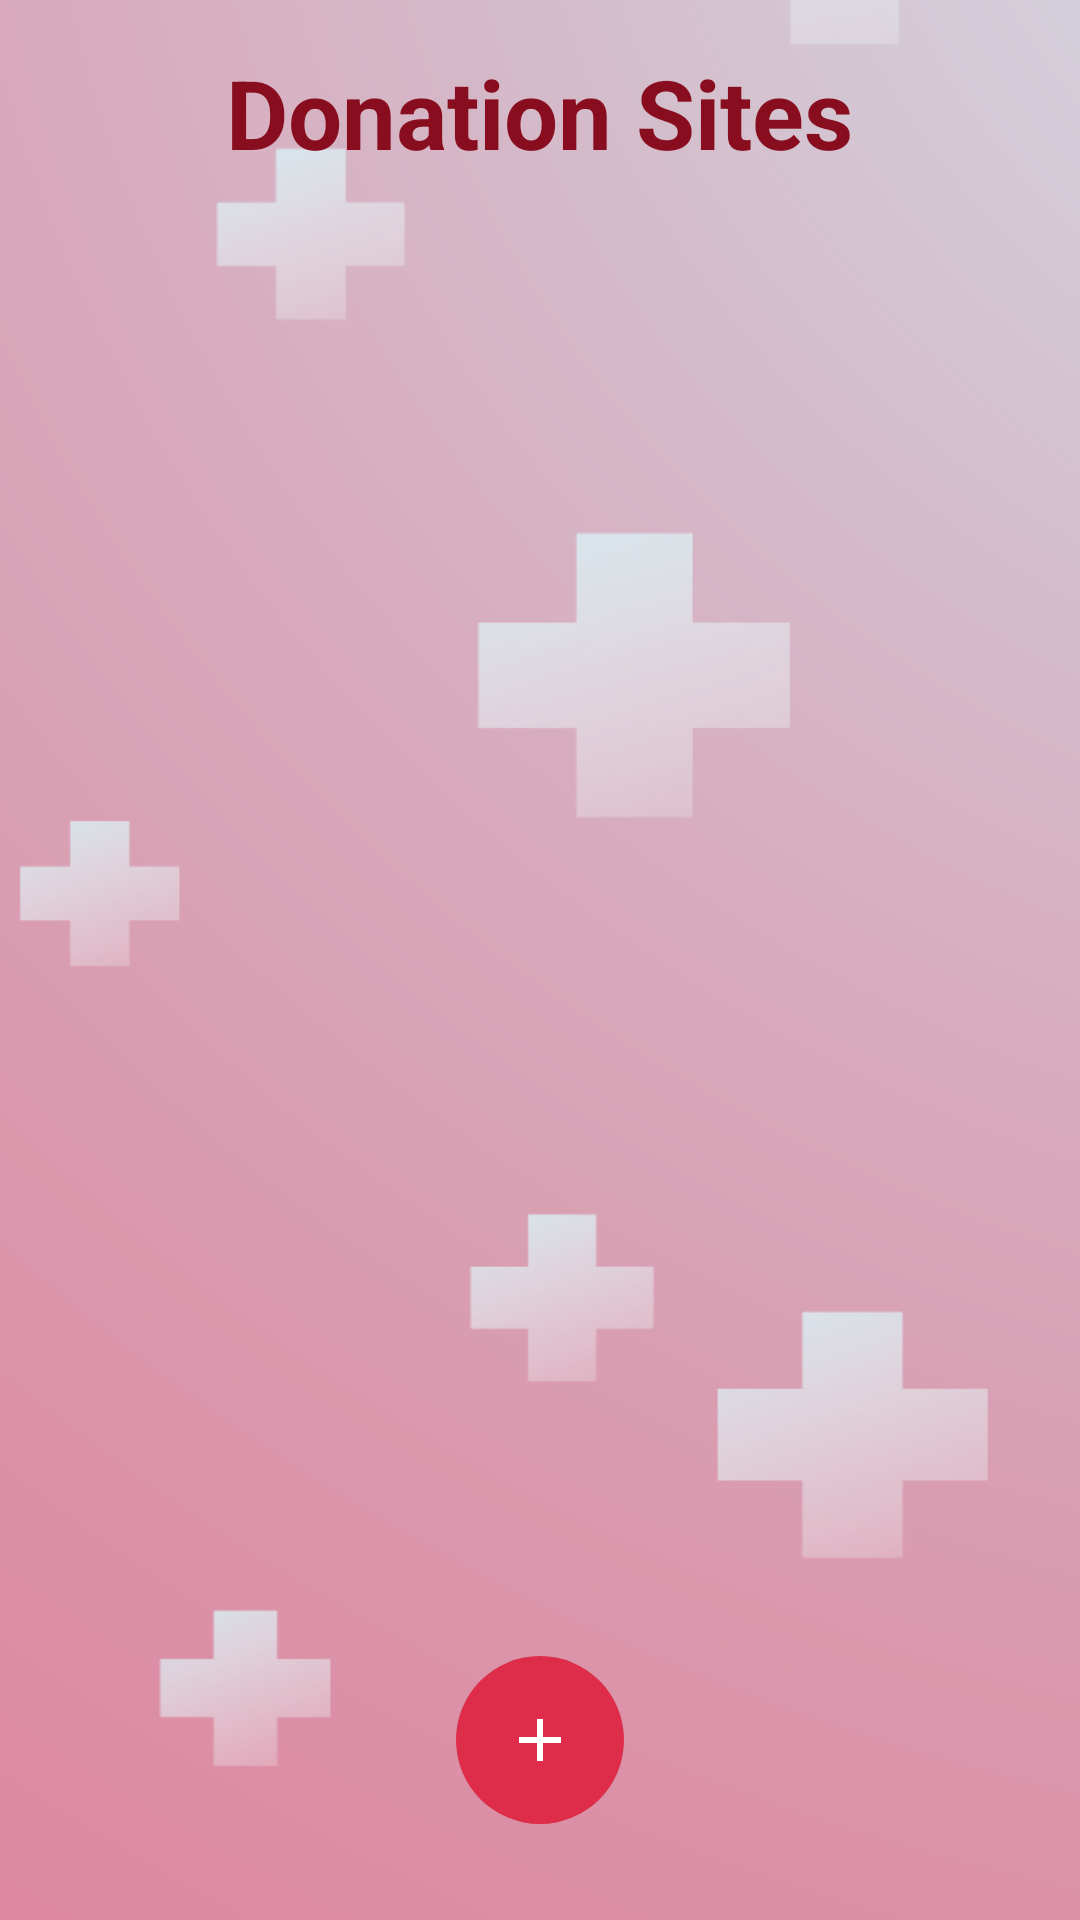

Named icons in this screenshot (1080*1920) and their bounding boxes, (x1, y1, x2, y2):
Add Donation Site: (456, 1656, 624, 1824)
